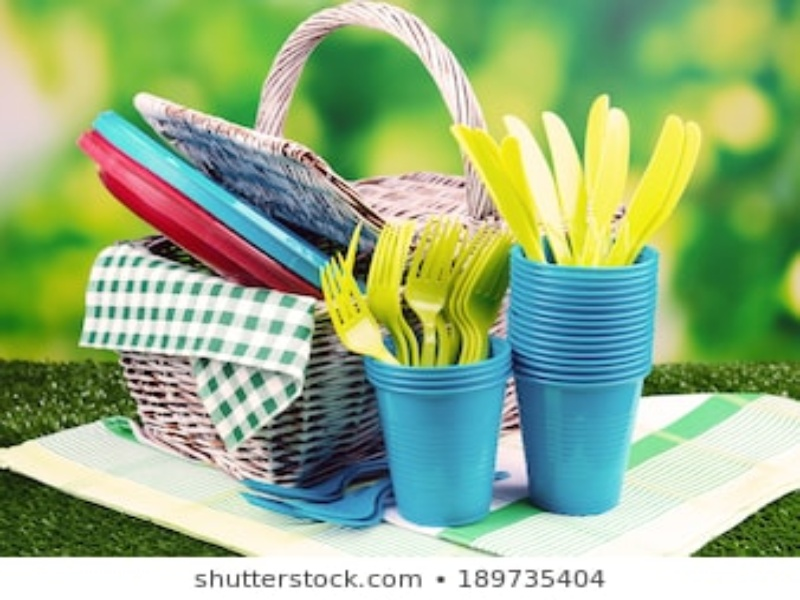plastic-cup: (504, 240, 649, 516), (362, 341, 515, 528)
plastic-silverware: (449, 121, 548, 265), (624, 120, 706, 265), (494, 112, 570, 267), (617, 114, 686, 271), (317, 258, 408, 368), (367, 219, 424, 375), (456, 225, 509, 366), (410, 211, 458, 365), (576, 86, 615, 268), (595, 107, 631, 269), (550, 112, 586, 265), (235, 462, 396, 496), (274, 494, 406, 525)
